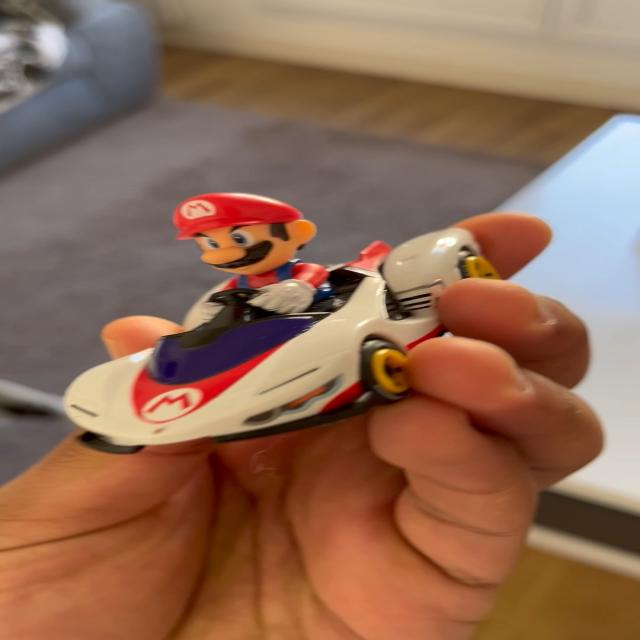mario: (17, 180, 534, 456)
